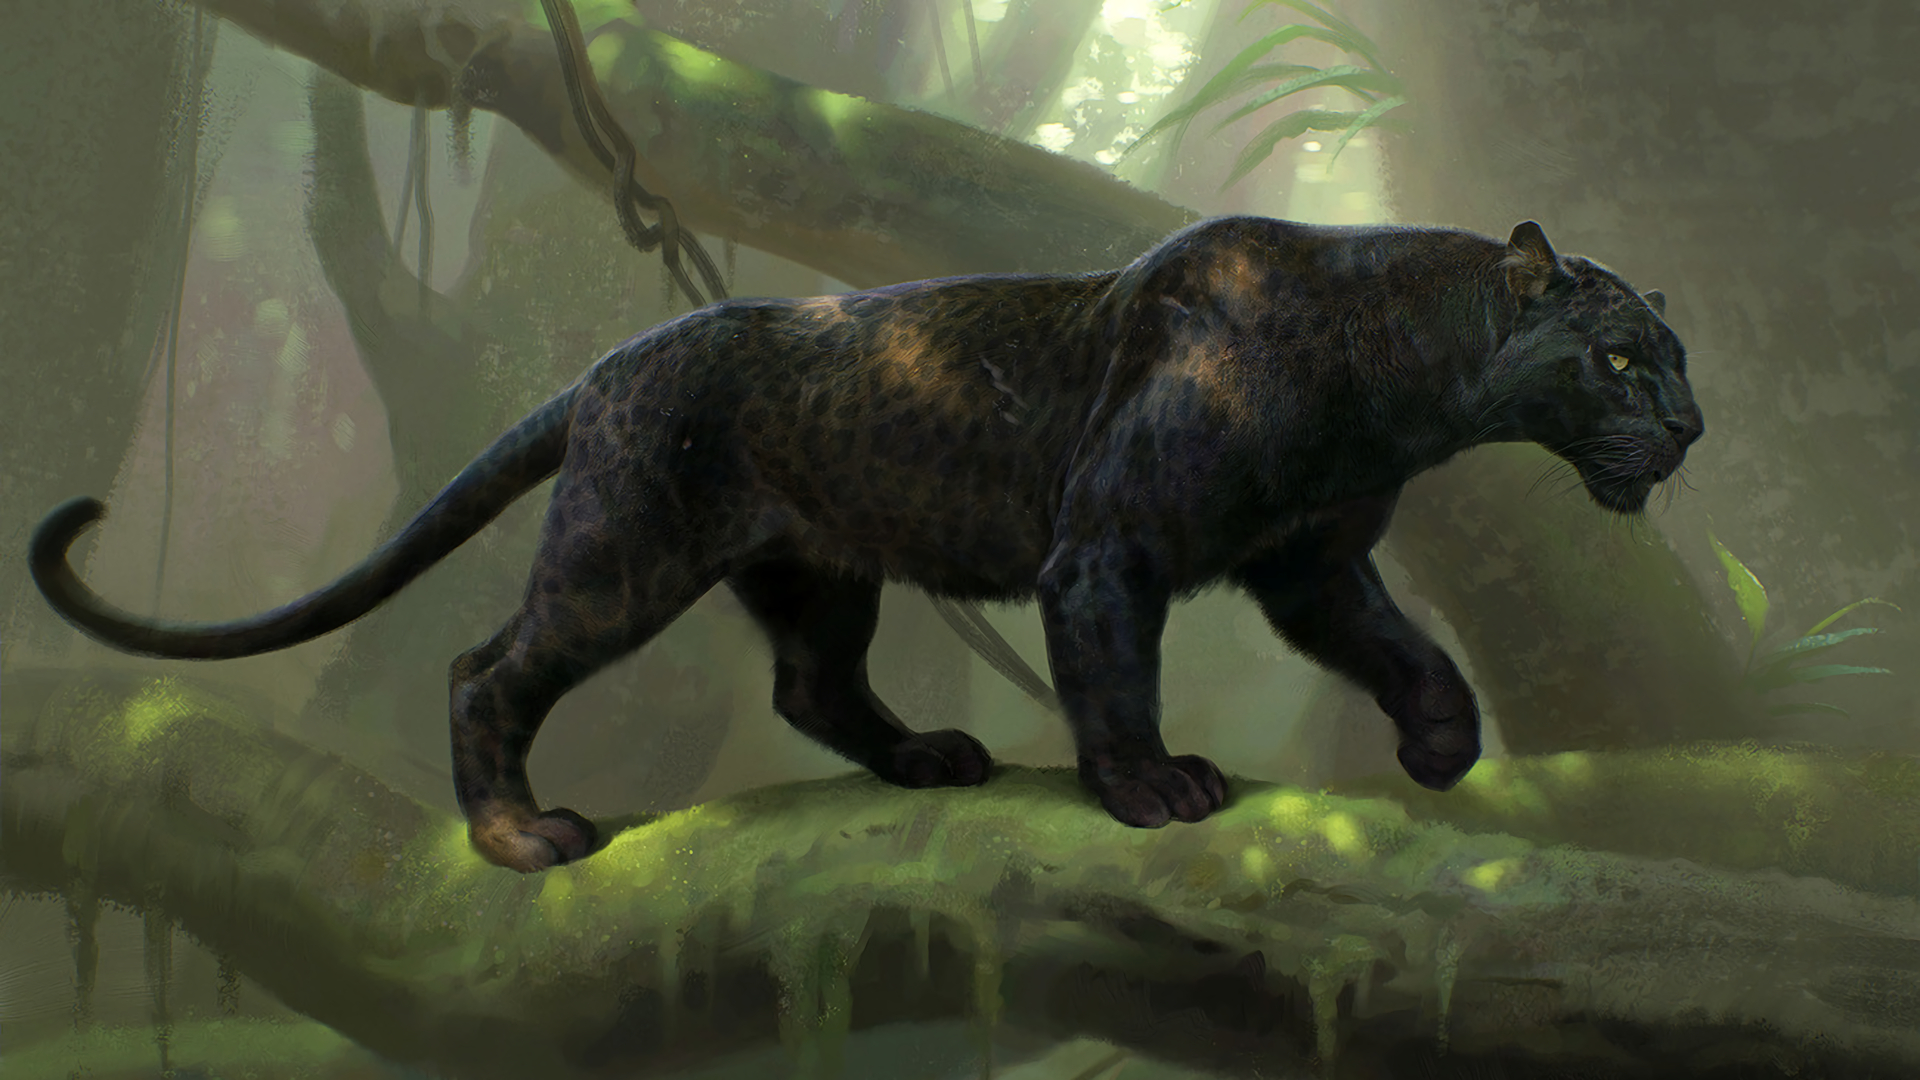panther: (1465, 190, 1751, 555)
